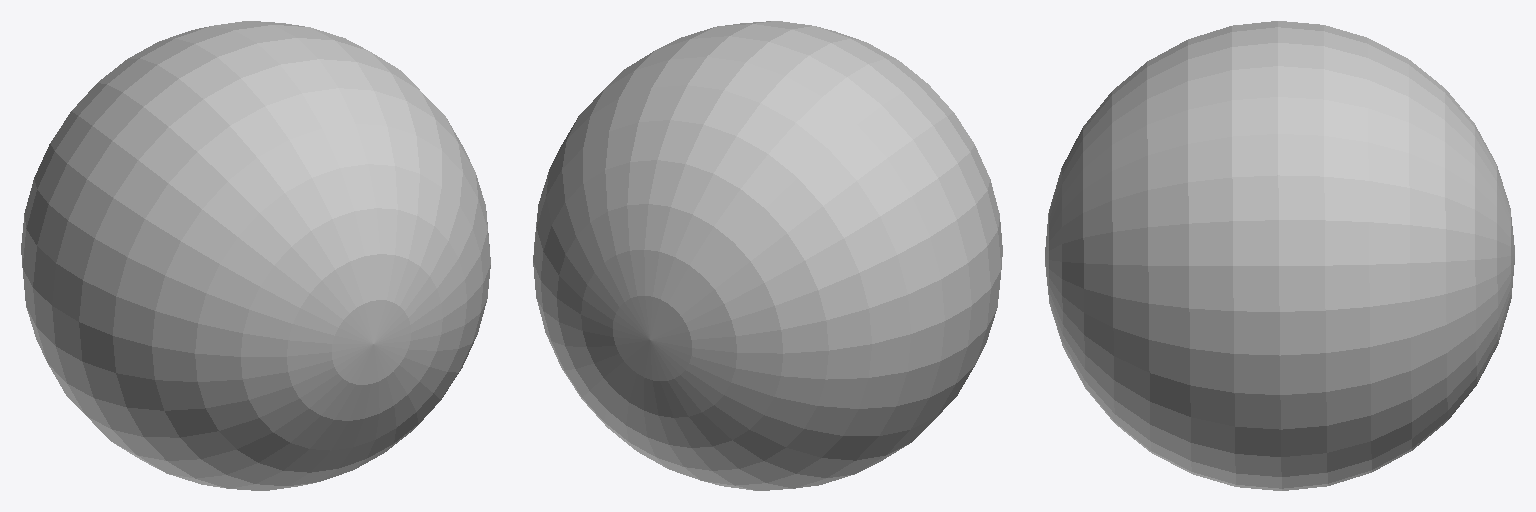
Rendered from tierra.obj.
The picture shows the model from 3 angles: view 1: azimuth 30°, elevation 25°; view 2: azimuth 150°, elevation 25°; view 3: azimuth 270°, elevation 25°; orthographic projection.
Parts seen in each view (by area): view 1: Mesh; view 2: Mesh; view 3: Mesh.
Boxes of the visible parts, box(x1,y1,x2,y2) form: Mesh: box(21, 21, 490, 490); Mesh: box(533, 21, 1002, 490); Mesh: box(1045, 21, 1514, 490).
Bounding box in the file's own units: 3.62 × 3.62 × 3.62.